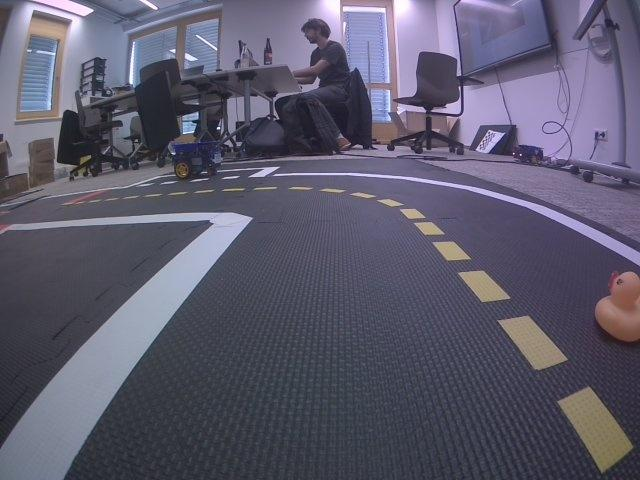bot: (173, 139, 222, 180)
duckie: (594, 270, 639, 343)
park: (124, 167, 281, 188)
